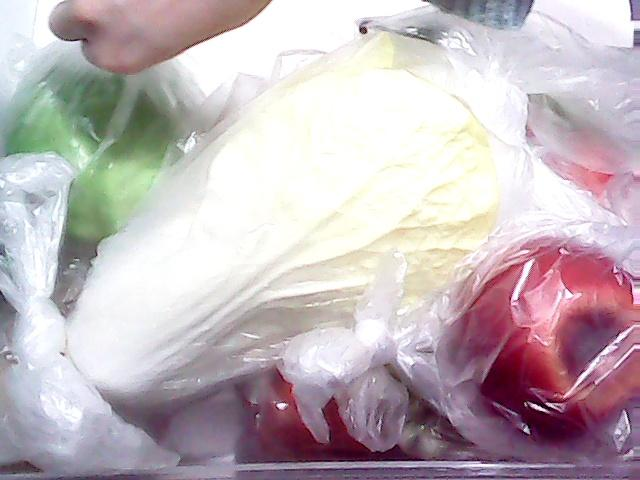apple: (427, 221, 640, 445)
cabbage: (7, 55, 169, 240)
carrot: (523, 48, 640, 217)
napa cabbage: (47, 74, 513, 403)
peach: (242, 338, 408, 480)
